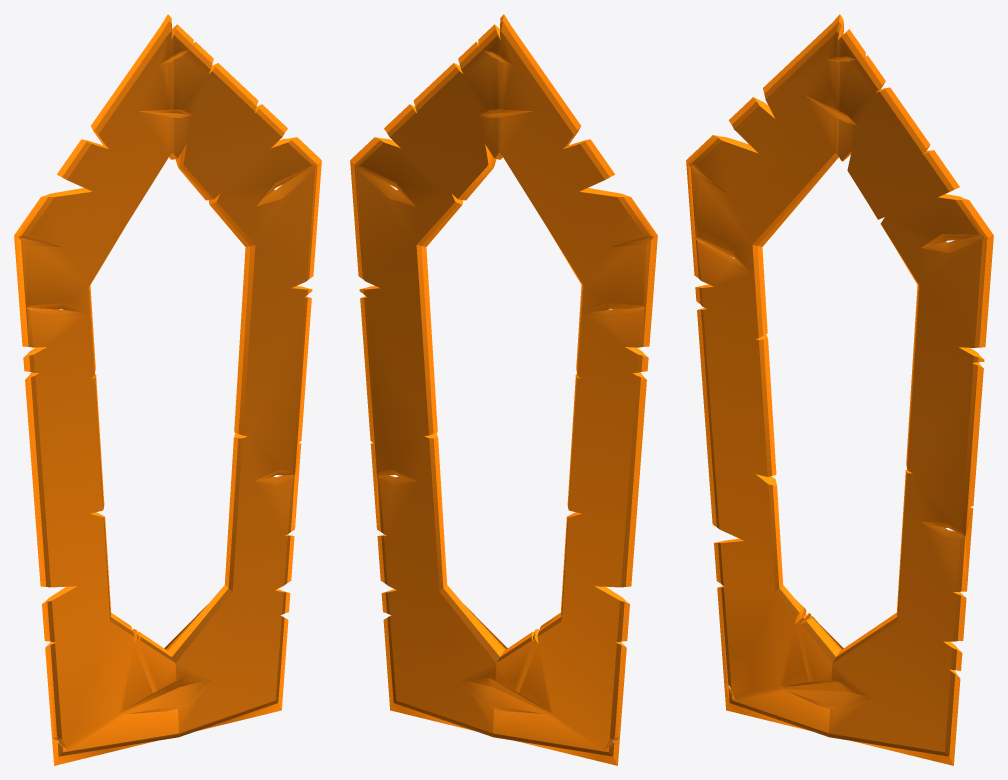
Rendered from bronze_blade_scratched_026.glb.
3 views of the same model, side by side, from view 1: azimuth 30°, elevation 25°; view 2: azimuth 150°, elevation 25°; view 3: azimuth 330°, elevation 25° (orthographic).
Parts seen in each view (by area): view 1: bronze_blade_scratched.026; view 2: bronze_blade_scratched.026; view 3: bronze_blade_scratched.026.
Boxes of the visible parts, <box> form: bronze_blade_scratched.026: <box>14,14,321,765</box>; bronze_blade_scratched.026: <box>350,14,657,765</box>; bronze_blade_scratched.026: <box>686,14,993,765</box>.
Size of the model in its own units: 5.08 by 11.42 by 0.6326.
Materials: 1 (1 with a texture image).
